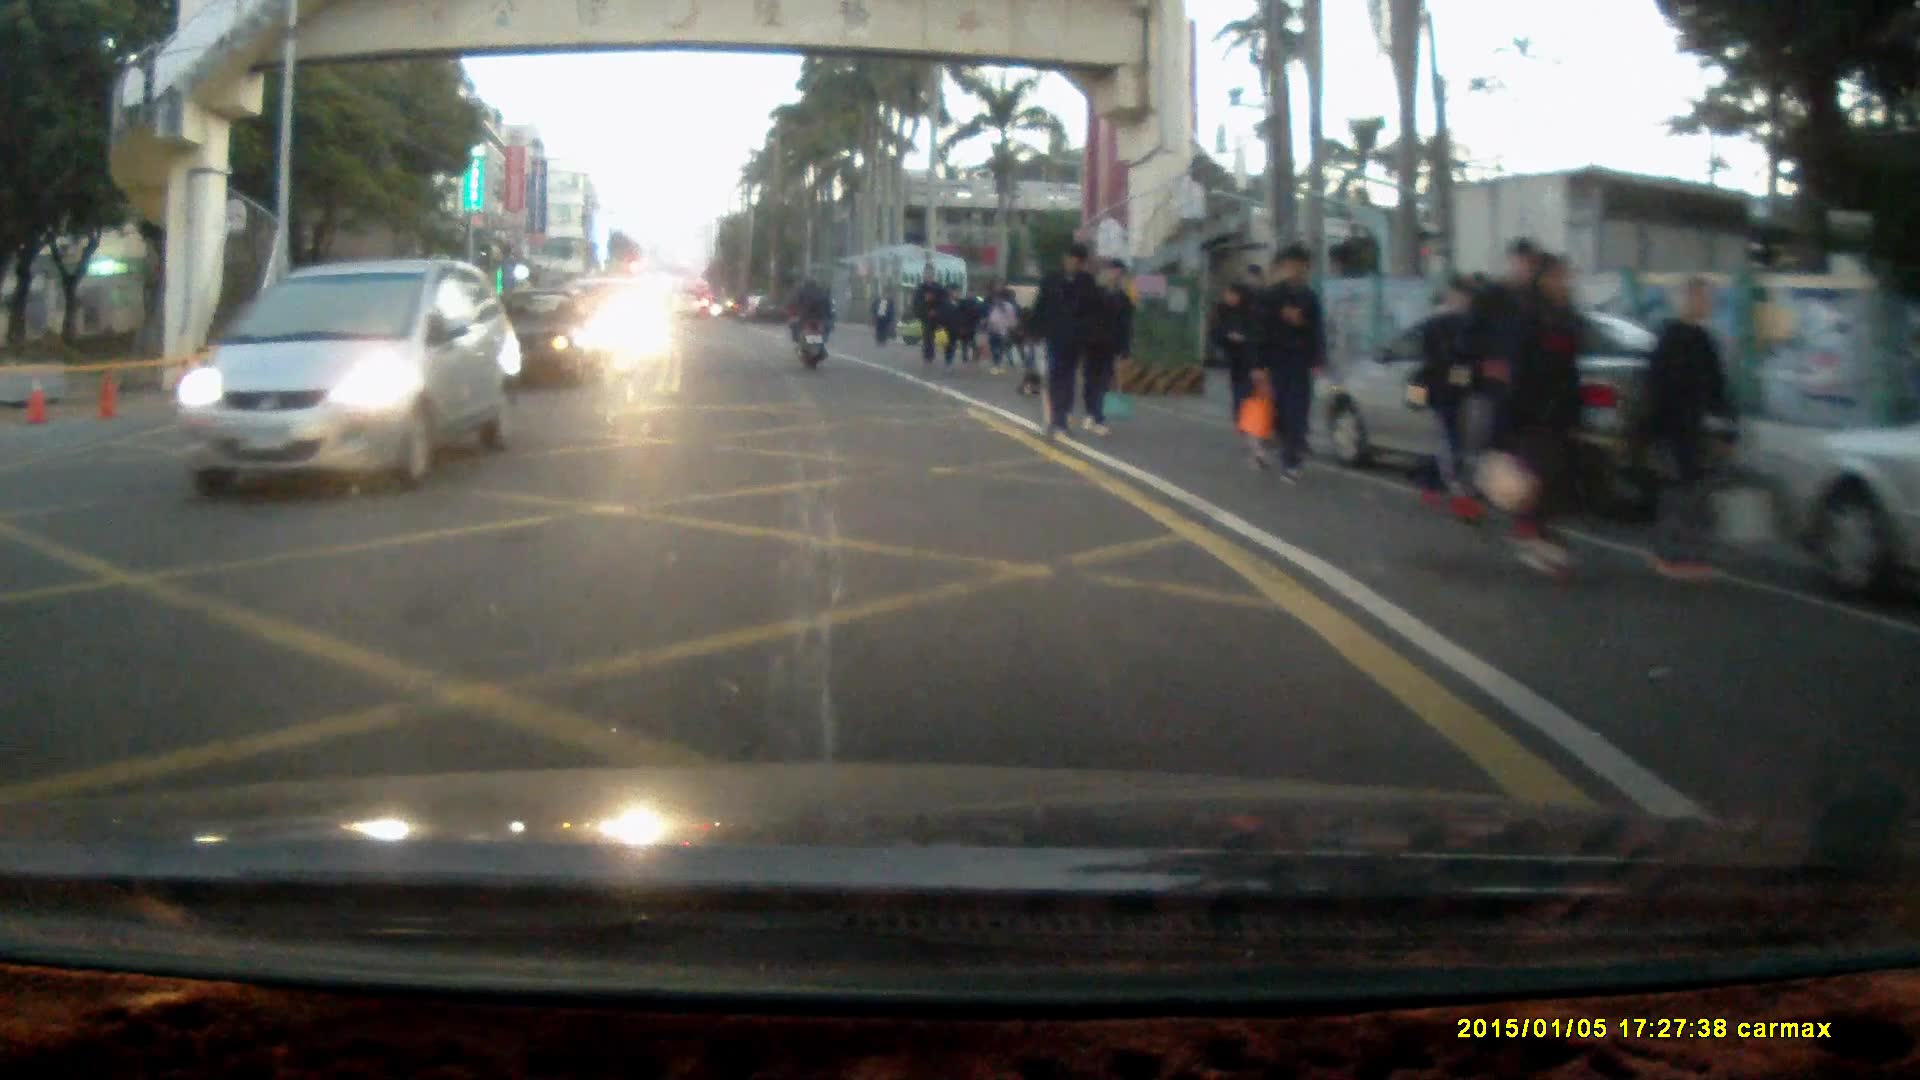pedestrian: (1632, 273, 1746, 587), (1502, 249, 1586, 584), (1466, 237, 1554, 550), (1421, 273, 1501, 511), (1252, 246, 1327, 490), (1035, 249, 1106, 446), (1087, 264, 1146, 445), (1216, 284, 1264, 447), (984, 276, 1026, 379), (911, 264, 945, 370), (939, 279, 970, 366), (870, 283, 896, 350)
rider: (789, 273, 833, 371)
vehicle: (1328, 305, 1743, 519), (162, 259, 528, 502), (1787, 406, 1920, 629), (477, 293, 605, 395)
